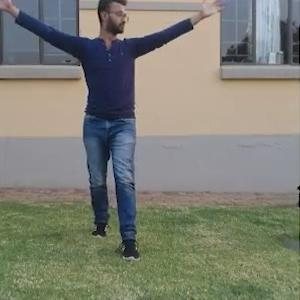takeoff: (7, 24, 138, 185)
